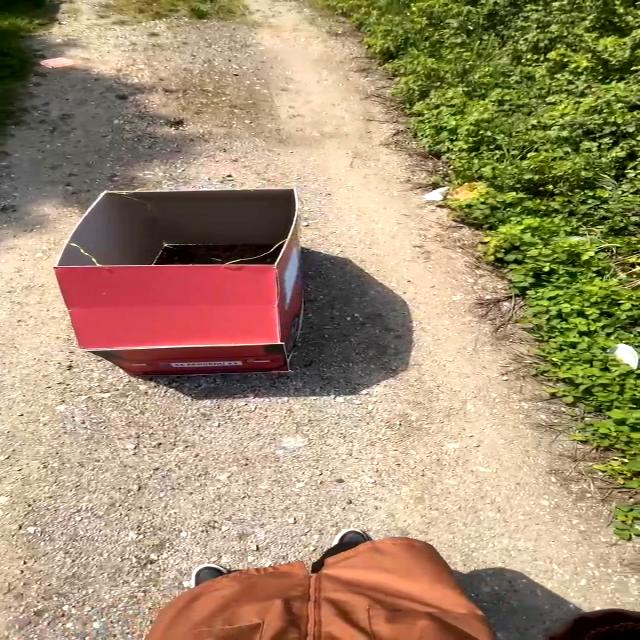red_car: (43, 169, 351, 403)
